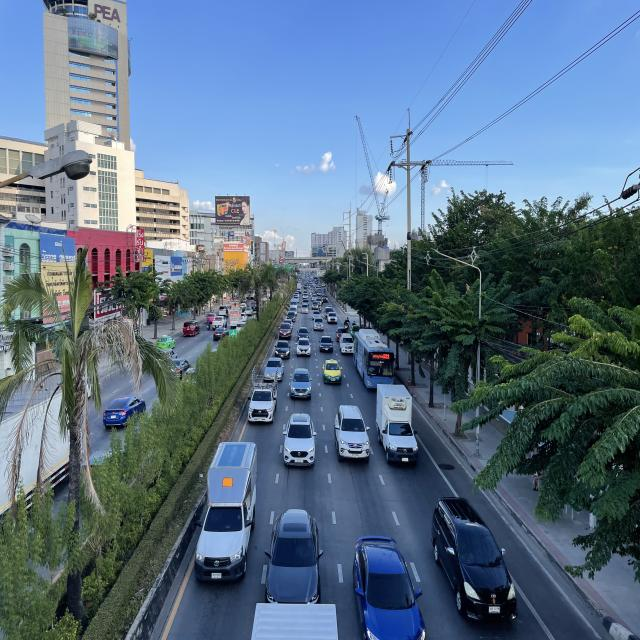bus: (353, 328, 397, 392)
car: (431, 495, 521, 629), (352, 532, 427, 640), (263, 505, 324, 605), (334, 404, 371, 464), (282, 412, 316, 468), (290, 367, 312, 401), (321, 358, 343, 386), (264, 357, 284, 384), (274, 340, 291, 360), (296, 338, 312, 358), (318, 334, 334, 353), (278, 322, 292, 340), (297, 326, 310, 341)
truck: (192, 440, 258, 584), (376, 382, 420, 468), (248, 365, 278, 426), (339, 332, 355, 355)
